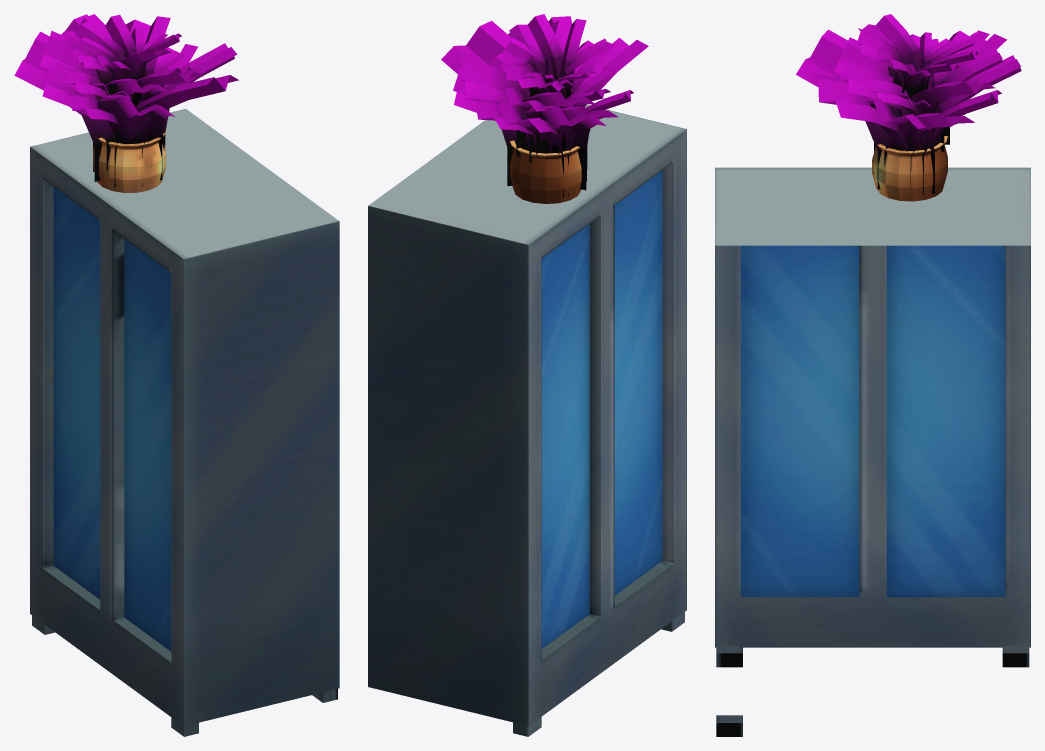
Rendered from geo_Obstacle_Fridge.FBX.
3 views of the same model, side by side, from view 1: azimuth 30°, elevation 25°; view 2: azimuth 150°, elevation 25°; view 3: azimuth 270°, elevation 25° (orthographic). The views are drawn at different scales.
Parts seen in each view (by area): view 1: geo_KitchenChunk.002; view 2: geo_KitchenChunk.002; view 3: geo_KitchenChunk.002.
Part boxes in pixels (bbox=[...]): geo_KitchenChunk.002: bbox=[14, 14, 339, 736]; geo_KitchenChunk.002: bbox=[368, 14, 686, 736]; geo_KitchenChunk.002: bbox=[715, 14, 1030, 736].
Size of the model in its own units: 403 by 1201 by 532.
